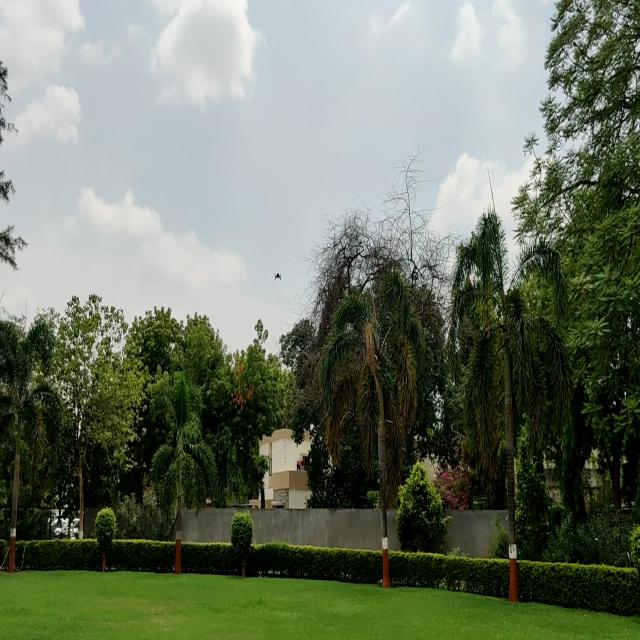drone: (269, 266, 285, 287)
